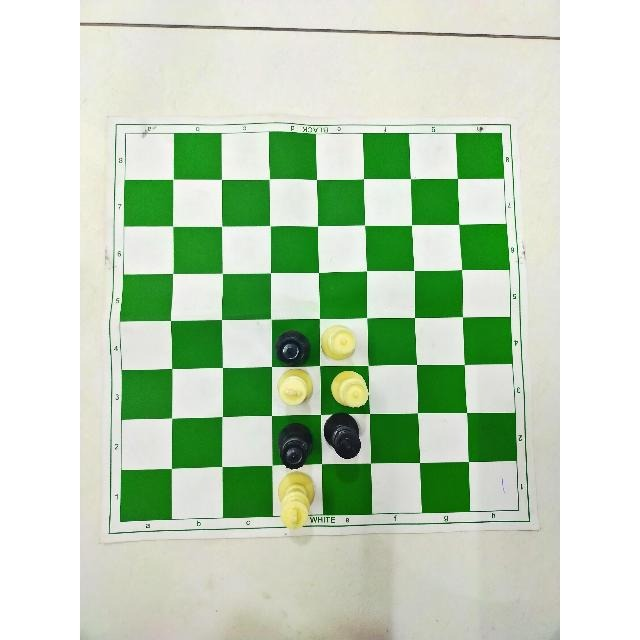black-king: (322, 411, 363, 463), (323, 410, 361, 461)
black-queen: (274, 418, 316, 469), (276, 422, 316, 471), (275, 324, 315, 366), (274, 328, 313, 364)
white-king: (276, 471, 316, 533), (276, 471, 316, 531), (274, 366, 316, 408), (277, 367, 315, 408)
white-queen: (327, 368, 371, 412), (319, 319, 361, 363), (328, 370, 370, 412), (317, 322, 358, 364)
